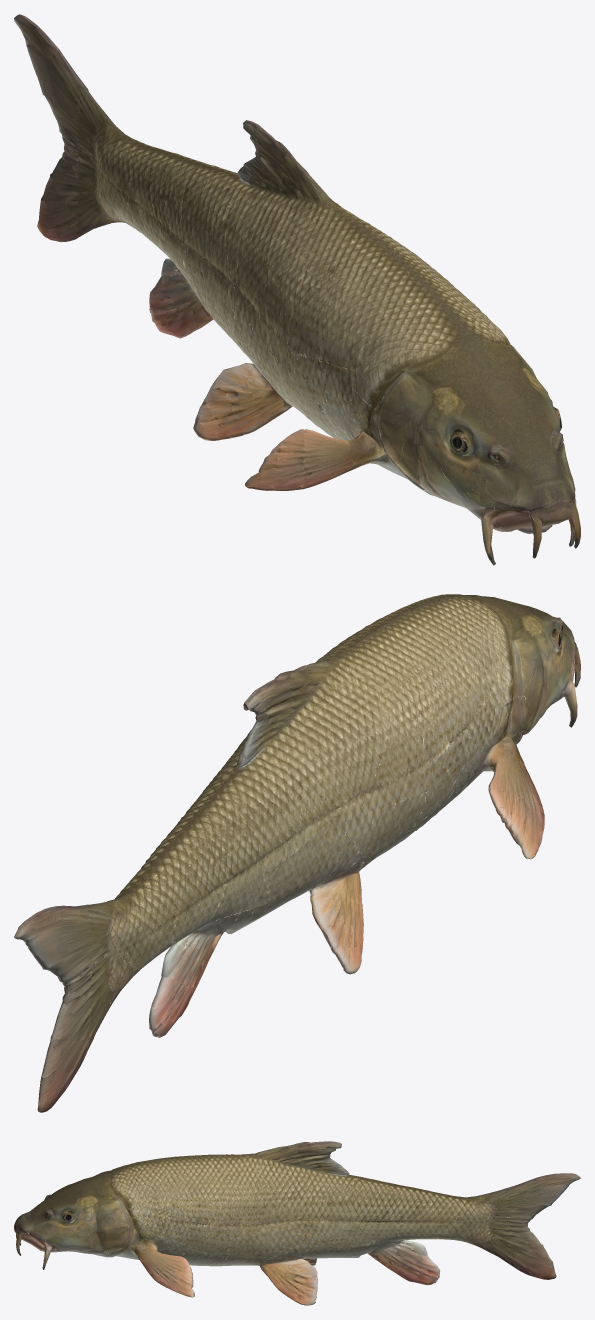
File: brzana.glb
3 renders of one model, top to bottom at view 1: azimuth 30°, elevation 25°; view 2: azimuth 150°, elevation 25°; view 3: azimuth 270°, elevation 25°, orthographic. The views are drawn at different scales.
Parts seen in each view (by area): view 1: Mesh_0; view 2: Mesh_0; view 3: Mesh_0.
Boxes of the visible parts, x1,y1,x2,y2 form: Mesh_0: (14,14,580,565); Mesh_0: (14,594,580,1112); Mesh_0: (14,1141,580,1305).
Bounding box in the file's own units: 0.5805 × 0.5381 × 1.9.
Materials: 1 (1 with a texture image).
